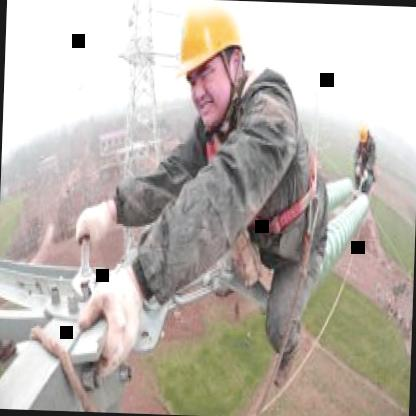helmet: (171, 0, 253, 131), (356, 119, 374, 148)
